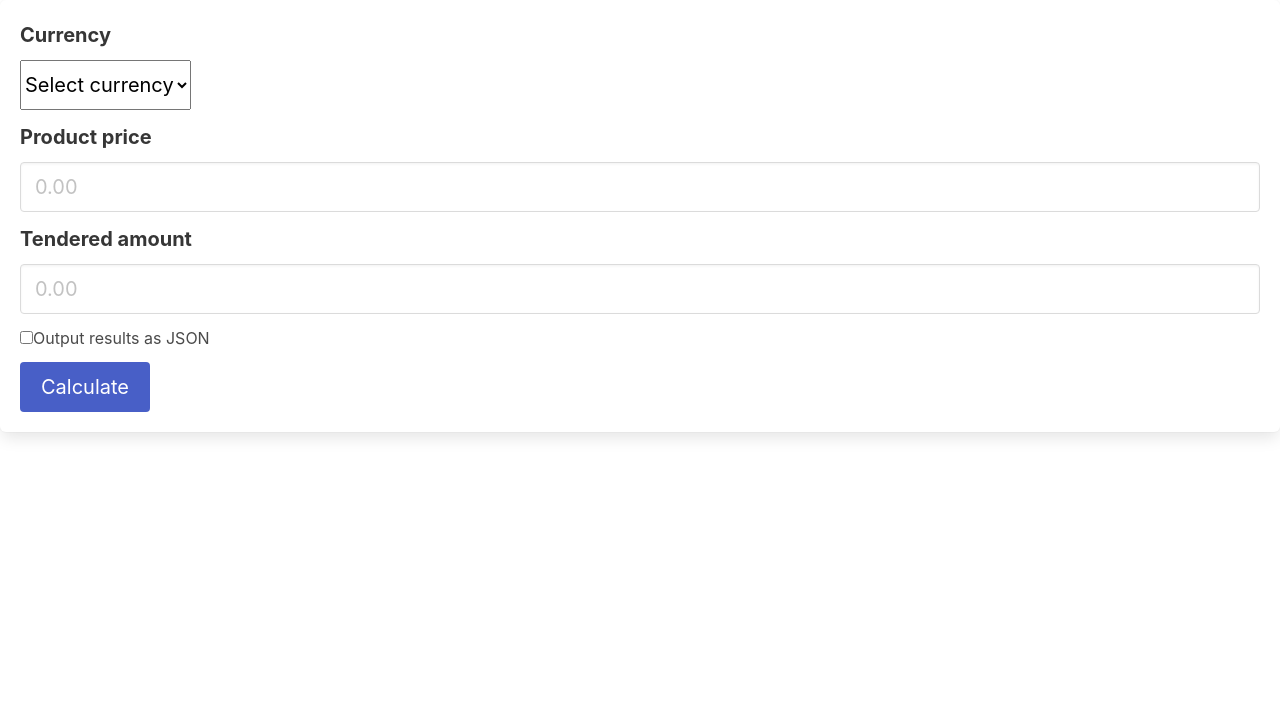
Calculator › Validation › shows error and does not submit if no currency selected
What coordinates should you click on to do the following:
click the button with test id "submit-button"
I would click on:
 (85, 387)
Its box is [20,362,150,412].
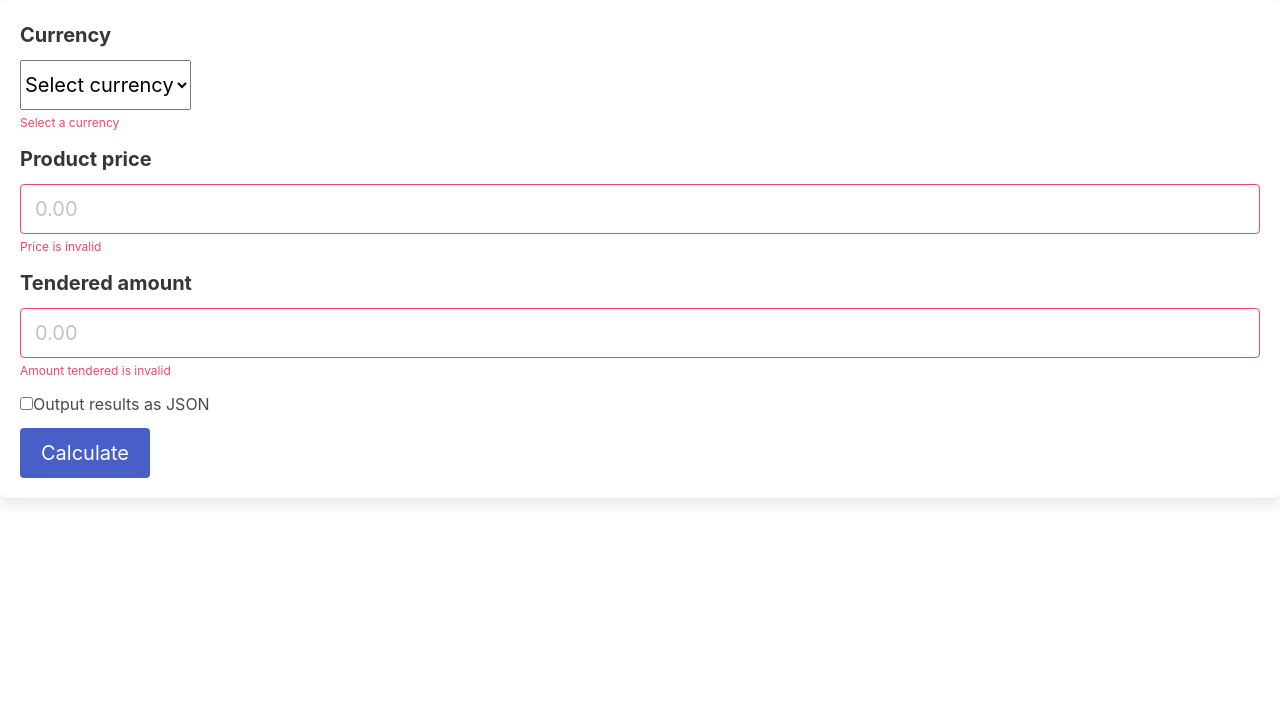
Now the text "Select a currency" is shown, box [20,115,119,130]
